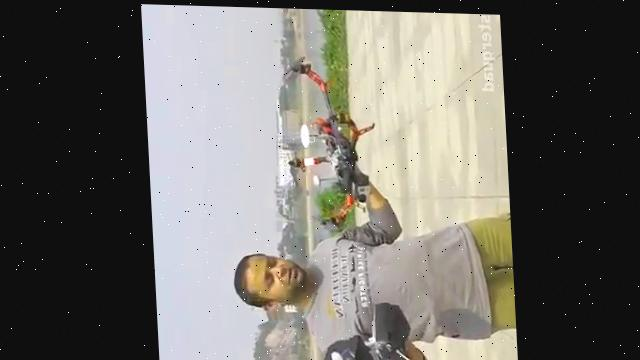drone: (274, 50, 379, 229)
